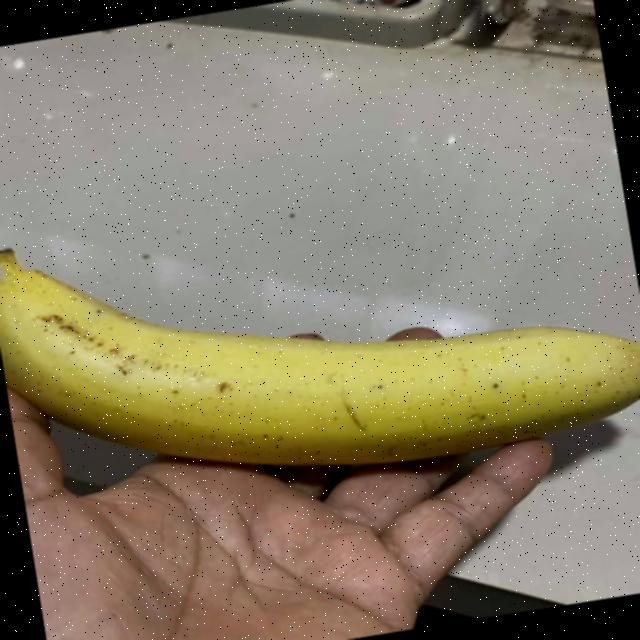Ripe: (0, 140, 640, 551)
